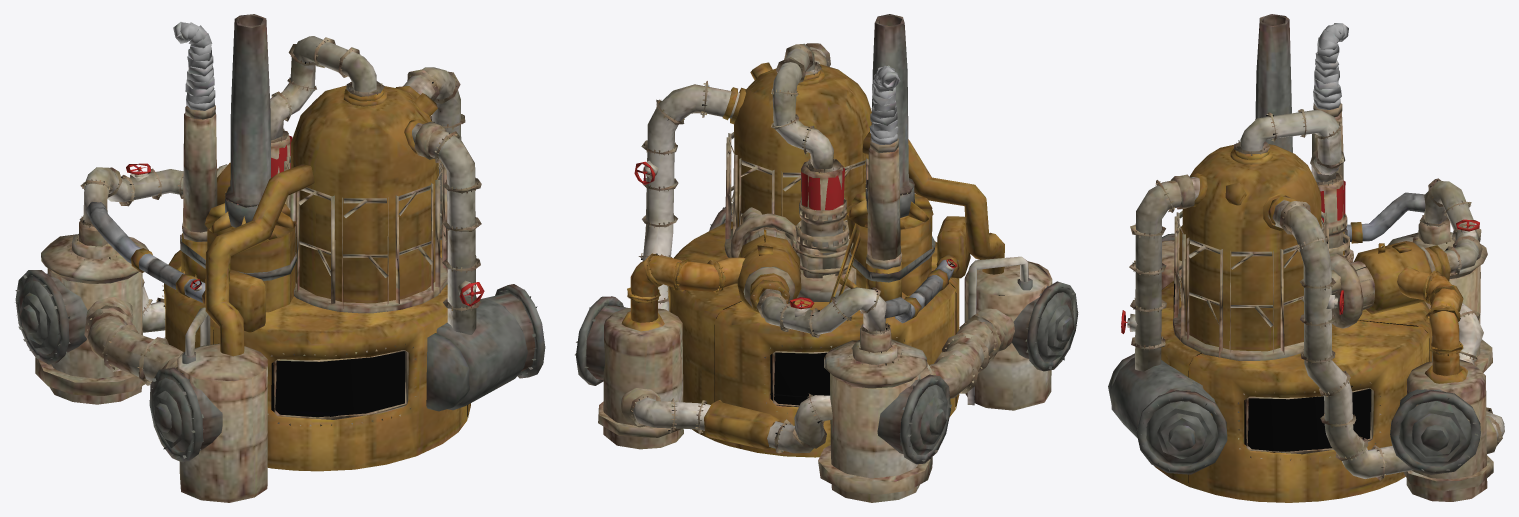
The model's file is chemical-plant-east.glb.
The picture shows the model from 3 angles, left to right: view 1: azimuth 30°, elevation 25°; view 2: azimuth 150°, elevation 25°; view 3: azimuth 270°, elevation 25°; orthographic projection. The views are drawn at different scales.
Visible parts, largest first — view 1: body; view 2: body; view 3: body.
Part boxes in pixels (<box>): body: <box>15,14,545,502</box>; body: <box>575,14,1078,502</box>; body: <box>1108,14,1504,502</box>.
Size of the model in its own units: 3.02 by 3.14 by 2.92.
Materials: 1 (1 with a texture image).
